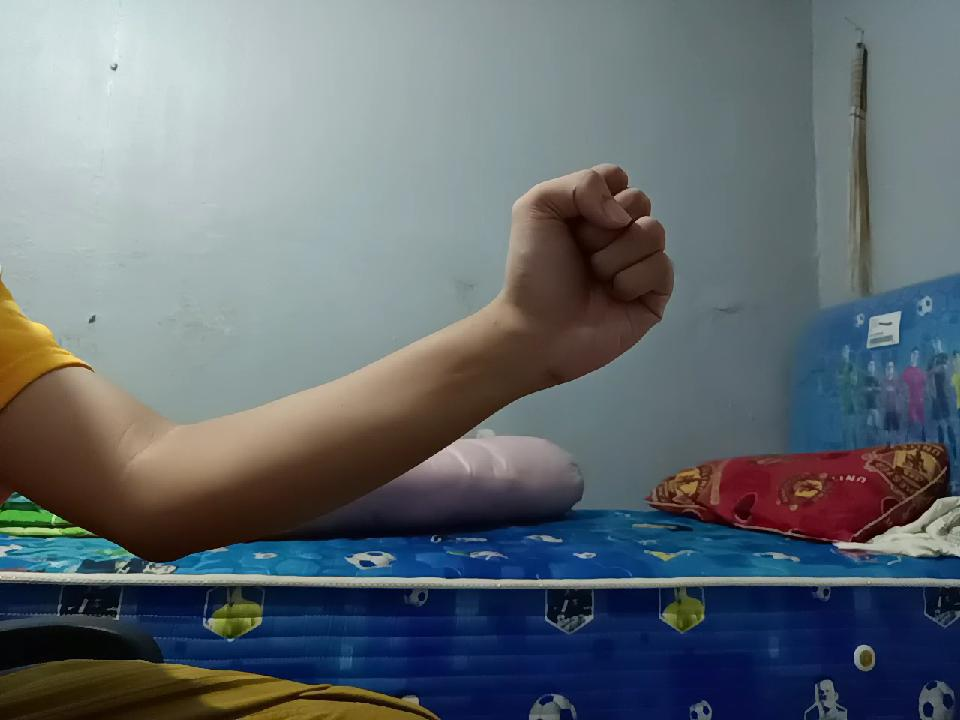rock: (489, 147, 688, 388)
